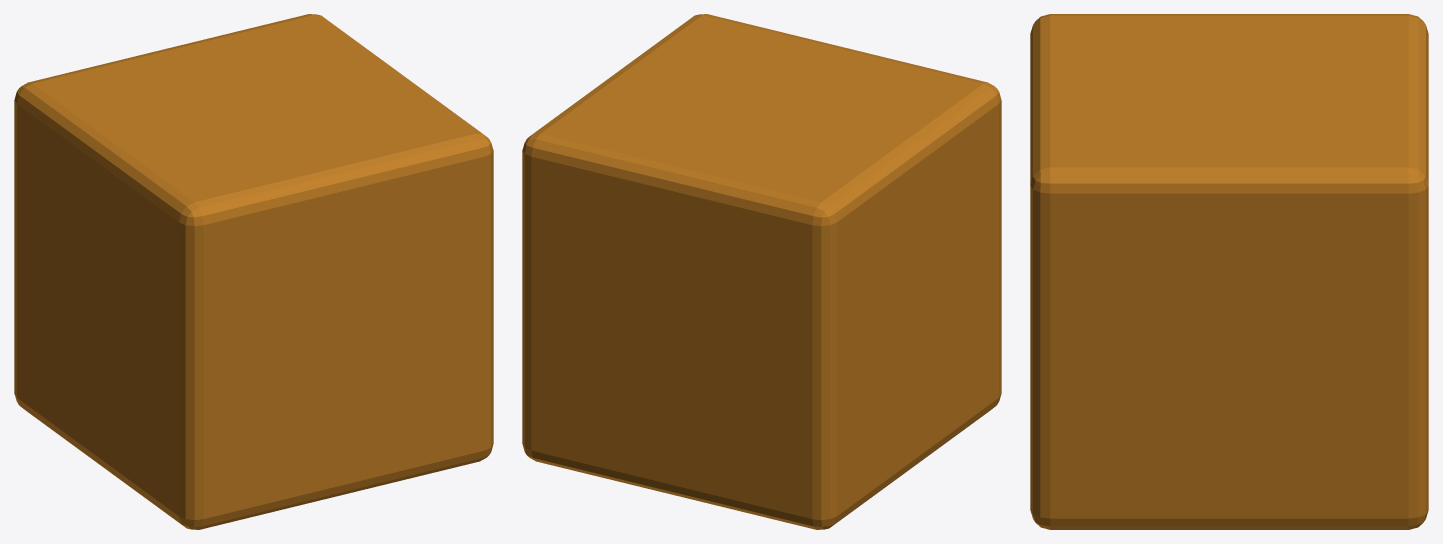
File: Terrain2.fbx
3 renders of one model, left to right at view 1: azimuth 30°, elevation 25°; view 2: azimuth 150°, elevation 25°; view 3: azimuth 270°, elevation 25°, orthographic. The views are drawn at different scales.
Parts seen in each view (by area): view 1: Cube; view 2: Cube; view 3: Cube.
Part boxes in pixels (left/top/right/bottom): Cube: left=14, top=14, right=493, bottom=529; Cube: left=522, top=14, right=1001, bottom=529; Cube: left=1030, top=14, right=1428, bottom=529.
Size of the model in its own units: 200 by 200 by 200.
Materials: 1 (1 with a texture image).
